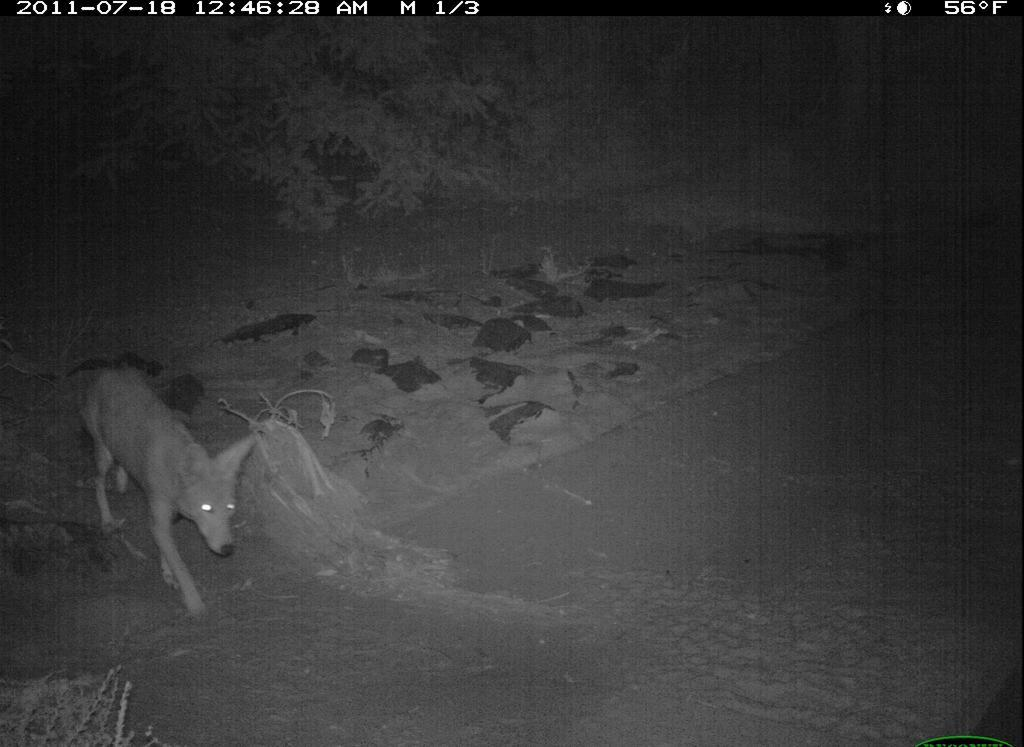coyote: (73, 353, 279, 626)
